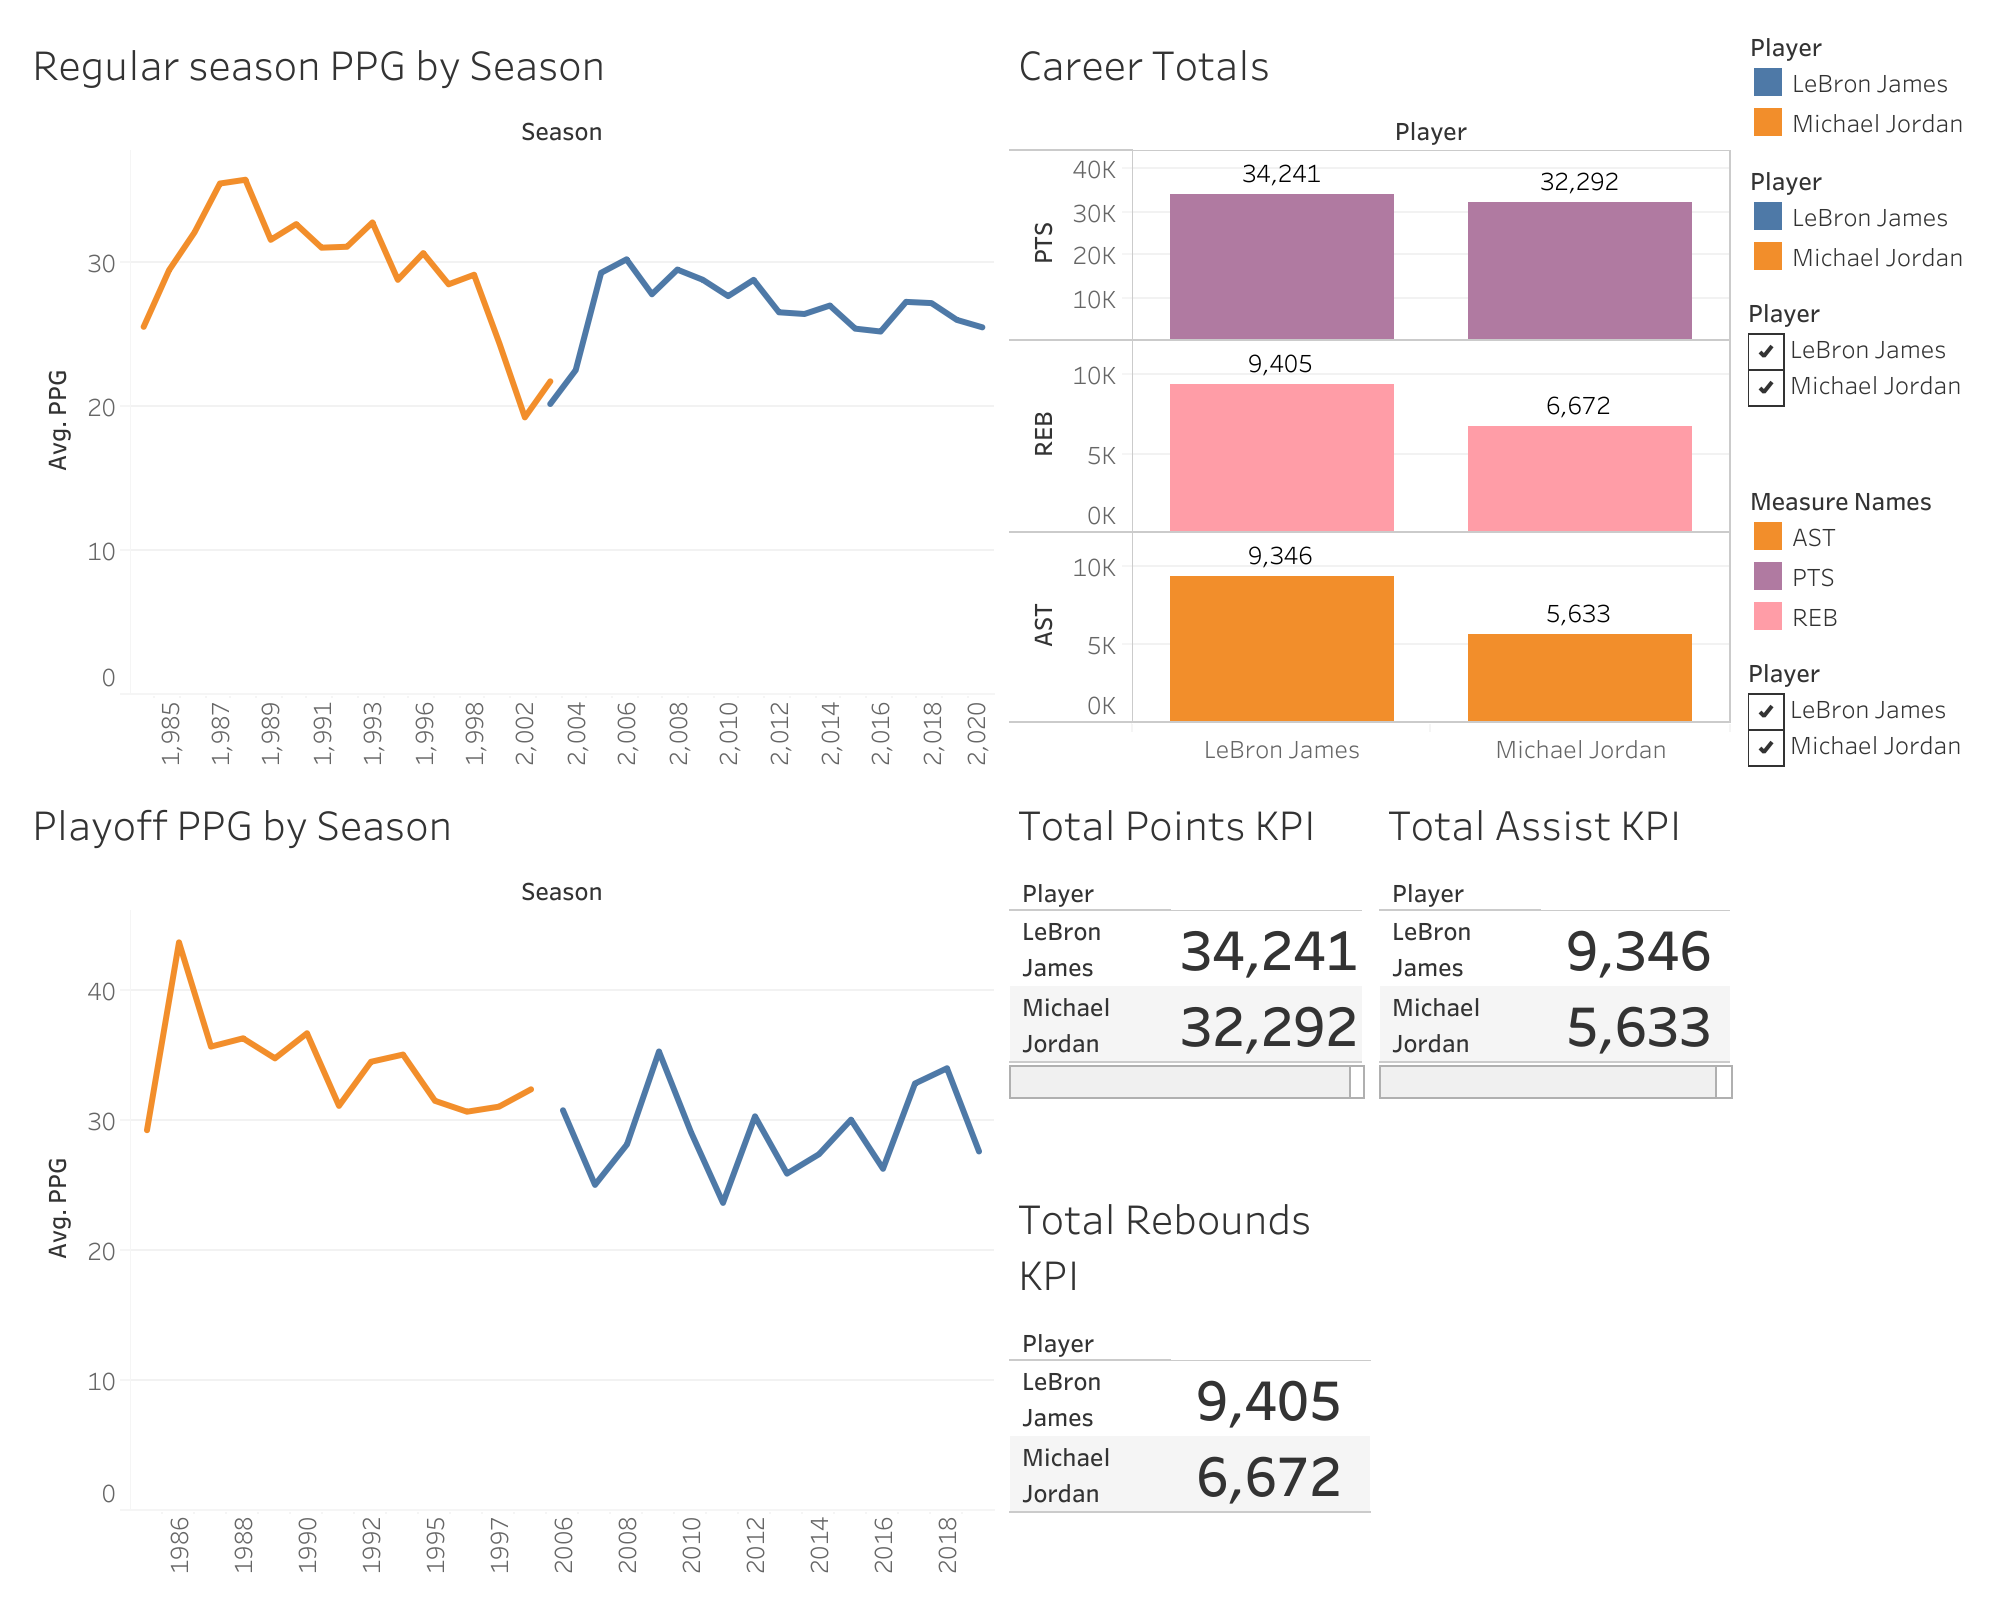

The dashboard page shown, as its layout file describes it:
{"tool":"tableau","page":{"name":"Dashboard 1","canvas":[1000,800],"ordinal":0},"visuals":[{"type":"worksheet","title":"Regular season PPG by Season","mark":"Line","rows":["PPG"],"cols":["Season"],"box":[8,8,493.1,380]},{"type":"worksheet","title":"Career Totals","mark":"Automatic","rows":["PTS","REB","AST"],"cols":["Player"],"box":[501.1,8,368.9,380]},{"type":"legend","title":"Regular season PPG by Season","param":"[federated.0usiupo03u94dx10ixdwj08o67mo].[none:Player:nk]","box":[870,8,122,67]},{"type":"legend","title":"Playoff PPG by Season","param":"[federated.1tbybf00vg7jz519l4fuu0mebaub].[none:Player:nk]","box":[870,75,122,67]},{"type":"filter","title":"Career Totals","param":"[federated.0zbfdvm128usnr1fiw4b51bavxtv].[none:Player:nk]","box":[870,142,122,93]},{"type":"legend","title":"Career Totals","param":"[federated.0zbfdvm128usnr1fiw4b51bavxtv].[:Measure Names]","box":[870,235,122,87]},{"type":"filter","title":"Total Points KPI","param":"[federated.0zbfdvm128usnr1fiw4b51bavxtv].[none:Player:nk]","box":[870,322,122,93]},{"type":"worksheet","title":"Playoff PPG by Season","mark":"Line","rows":["PPG"],"cols":["Season"],"box":[8,388,493,404]},{"type":"worksheet","title":"Total Points KPI","mark":"Text","rows":["Player"],"box":[501,388,185,197]},{"type":"worksheet","title":"Total Assist KPI","mark":"Automatic","rows":["Player"],"box":[686,388,184,197]},{"type":"worksheet","title":"Total Rebounds KPI","mark":"Automatic","rows":["Player"],"box":[501,585,369,207]}]}

Visuals, with their boxes in screenshot pixels (x1, y1, x2, y2), scaled from the page's 1000x800 canvas onto the 2000x1600 screenshot:
"Regular season PPG by Season" worksheet (Line marks): 16/16/1002/776
"Career Totals" worksheet: 1002/16/1740/776
"Regular season PPG by Season" legend: 1740/16/1984/150
"Playoff PPG by Season" legend: 1740/150/1984/284
"Career Totals" filter: 1740/284/1984/470
"Career Totals" legend: 1740/470/1984/644
"Total Points KPI" filter: 1740/644/1984/830
"Playoff PPG by Season" worksheet (Line marks): 16/776/1002/1584
"Total Points KPI" worksheet (Text marks): 1002/776/1372/1170
"Total Assist KPI" worksheet: 1372/776/1740/1170
"Total Rebounds KPI" worksheet: 1002/1170/1740/1584
